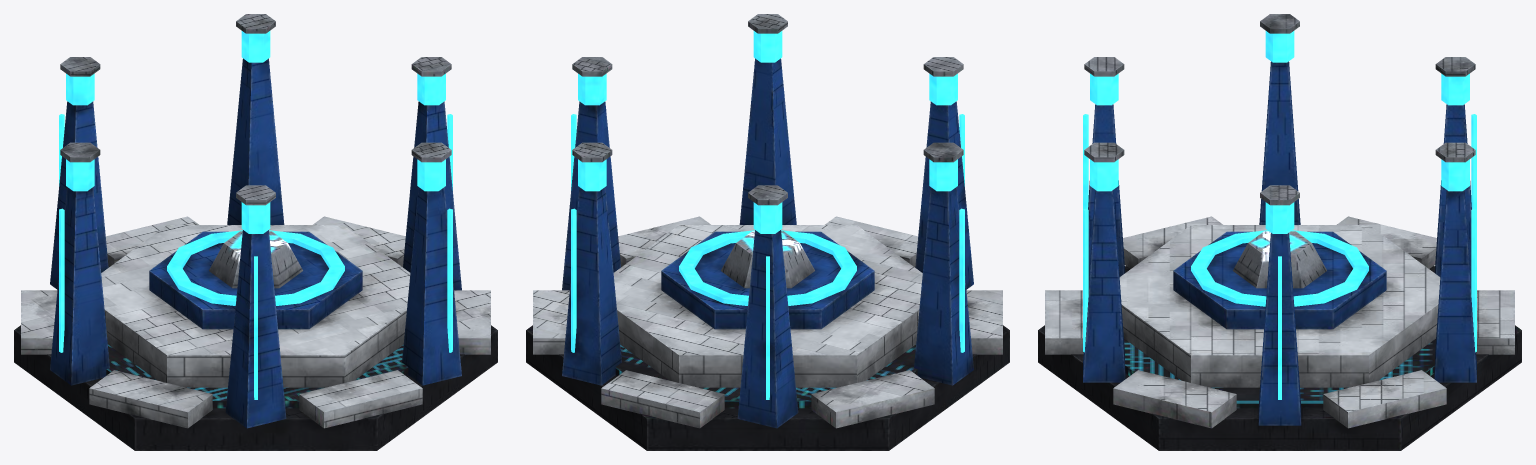
3 renders of one model, left to right at view 1: azimuth 30°, elevation 25°; view 2: azimuth 150°, elevation 25°; view 3: azimuth 270°, elevation 25°, orthographic.
Parts seen in each view (by area): view 1: k_base_w; view 2: k_base_w; view 3: k_base_w.
Boxes of the visible parts, x1,y1,x2,y2 form: k_base_w: (14, 14, 497, 450); k_base_w: (526, 14, 1009, 450); k_base_w: (1038, 14, 1521, 450).
Size of the model in its own units: 6.52 by 3.96 by 6.8.
Materials: 1 (1 with a texture image).
